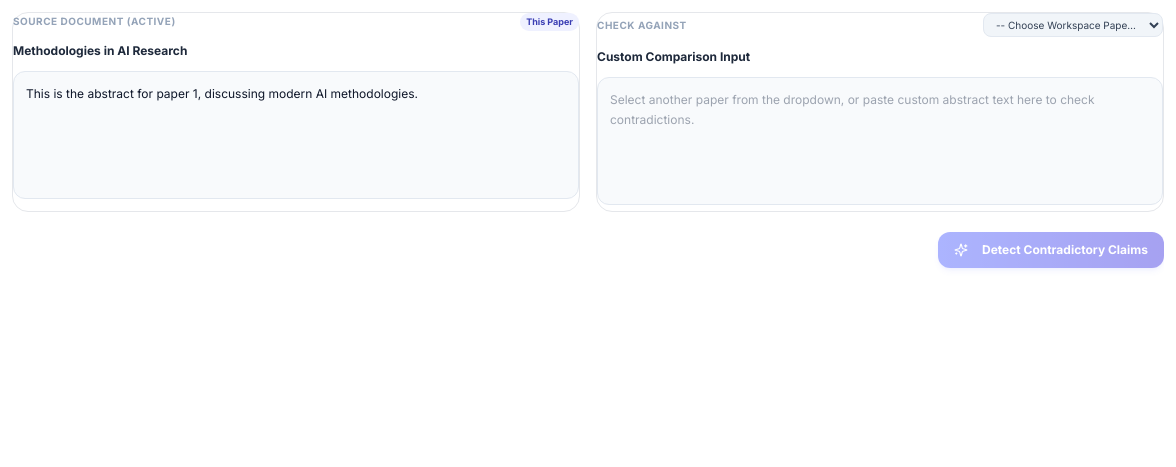
Scenario: AI Insights Panels UI Components › ContradictionPanel › renders side by side views and runs negation checks
Select "NLP Contradiction Checking" in the dropdown. click: {"x": 1073, "y": 25}
box: [983,13,1163,37]
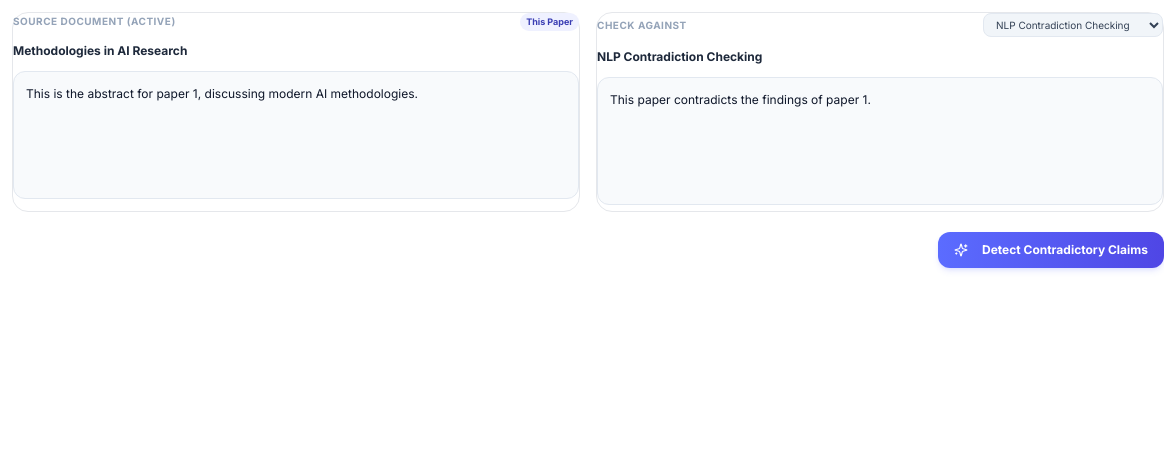
Click the button "Detect Contradictory Claims". click: {"x": 1051, "y": 250}
box: [938,232,1164,268]
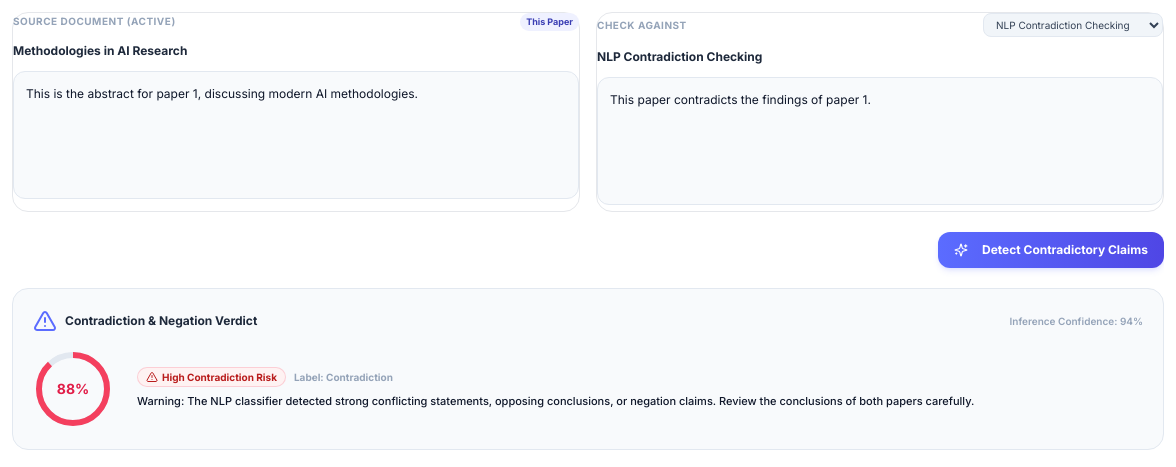
Expected: the text "88%" is shown, [57,379,89,399]
Expected: the text "High Contradiction Risk" is shown, [137,367,286,387]
Expected: the text "Inference Confidence: 94%" is shown, [1010,314,1143,328]
